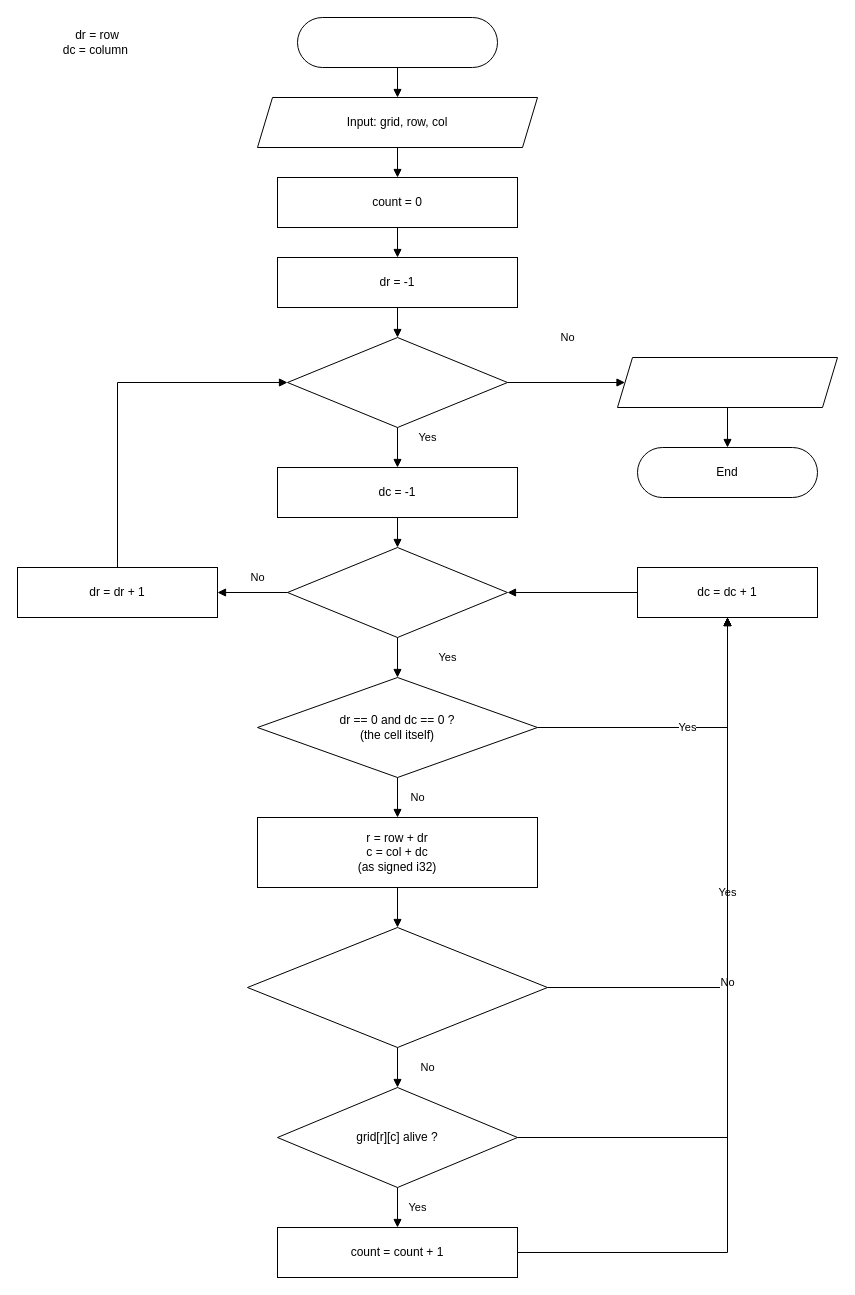
The diagram is 855 pixels wide and 1295 high, and some of its shapes have lost their labels. Each missing label, with the centre of its shape:
"dc <= 1 ?" belongs at [397,592].
"dr <= 1 ?" belongs at [397,382].
"Output: Return count" belongs at [727,382].
"r < 0 or r >= ROWS or c < 0 or c >= COLS ? (off the edge)" belongs at [397,987].
"Start" belongs at [397,42].
